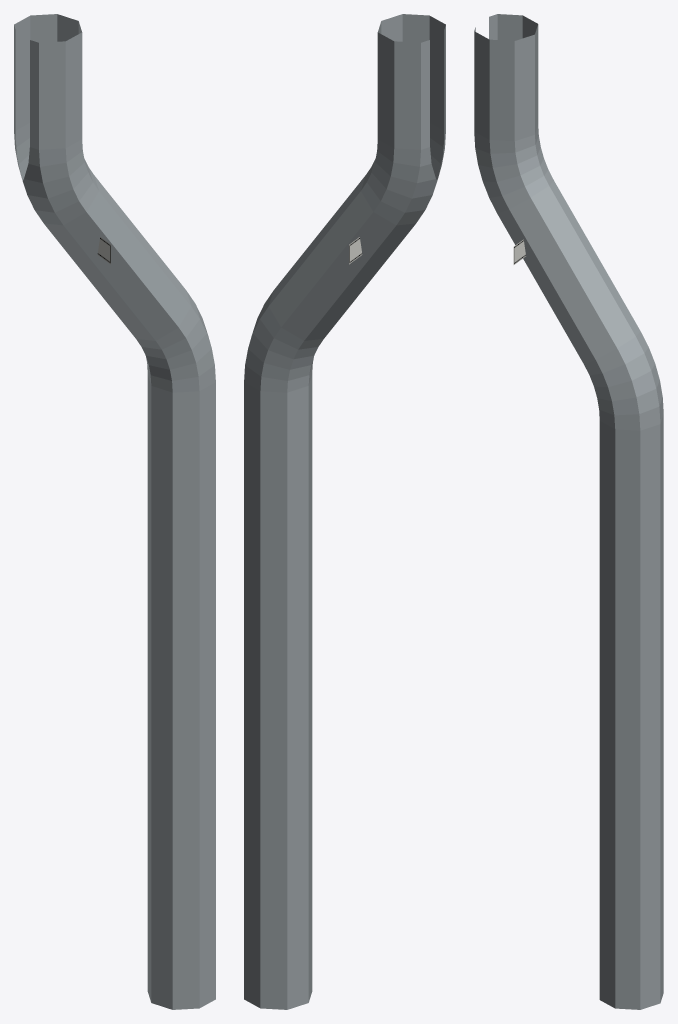
File: cell_33.obj
3 views of the same model, side by side, from view 1: azimuth 30°, elevation 25°; view 2: azimuth 150°, elevation 25°; view 3: azimuth 330°, elevation 25° (orthographic). The views are drawn at different scales.
Size of the model in its own units: 0.1986 by 1 by 0.1.
